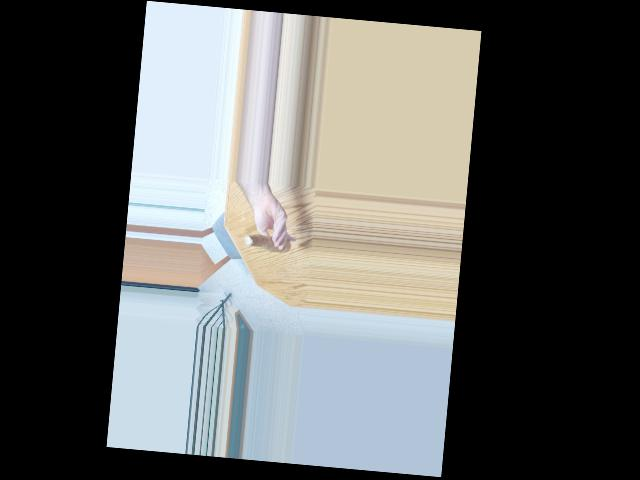sweet_potato: (246, 230, 288, 255)
